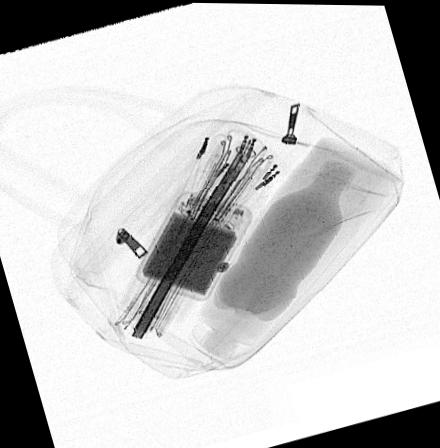Powerbank: (134, 190, 252, 300)
